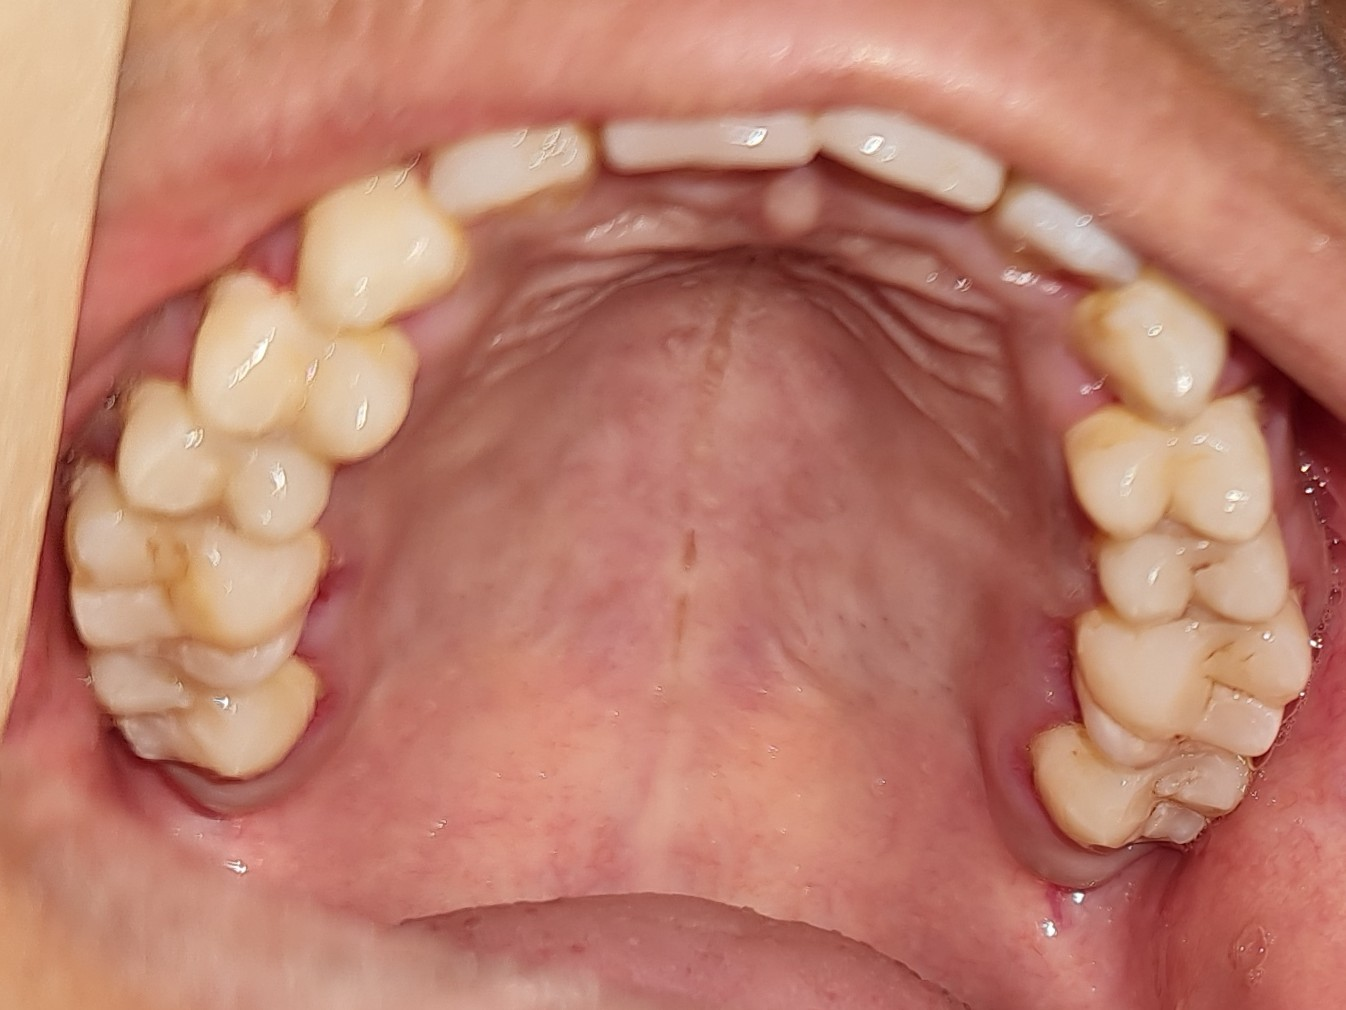D: (1087, 510, 1300, 625)
